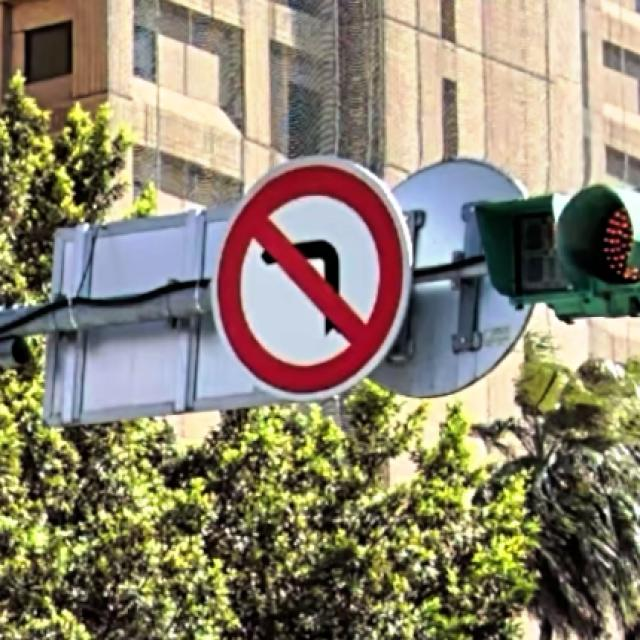noturnleft: (214, 164, 403, 393)
